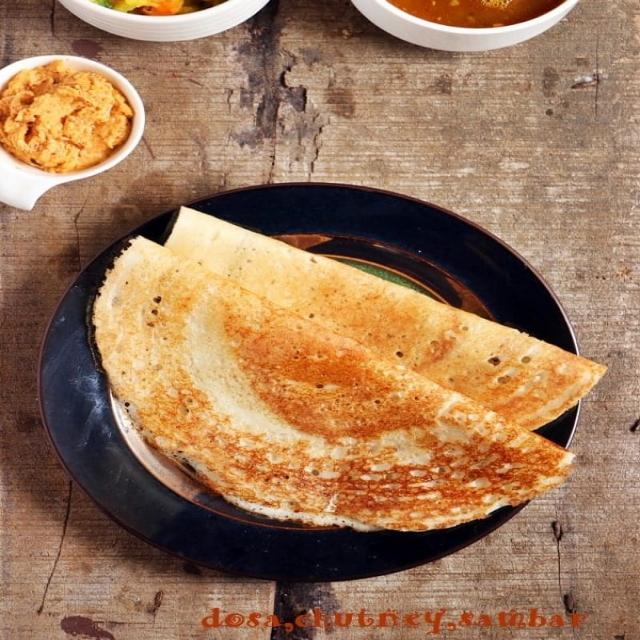dosa: (94, 230, 592, 539), (148, 195, 616, 432)
